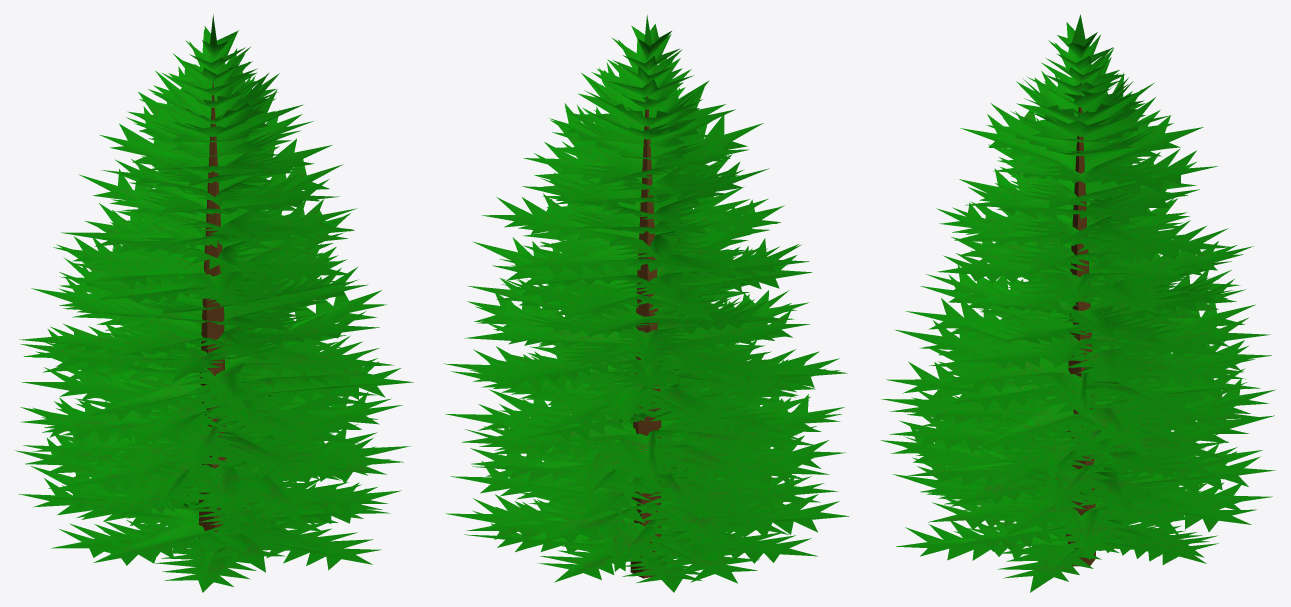
File: tree_1.dae
3 views of the same model, side by side, from view 1: azimuth 30°, elevation 25°; view 2: azimuth 150°, elevation 25°; view 3: azimuth 270°, elevation 25° (orthographic). The views are drawn at different scales.
Visible parts, largest first — view 1: Pine_Tree (×33), group_0; view 2: Pine_Tree (×33), group_0; view 3: Pine_Tree (×33), group_0.
Part boxes in pixels (x1,y1,x2,y2): Pine_Tree (×33): (14,29,413,592); group_0: (199,82,226,538); Pine_Tree (×33): (444,30,849,592); group_0: (630,84,661,578); Pine_Tree (×33): (880,35,1275,592); group_0: (1065,83,1095,566).
Size of the model in its own units: 85.72 by 85.87 by 130.
